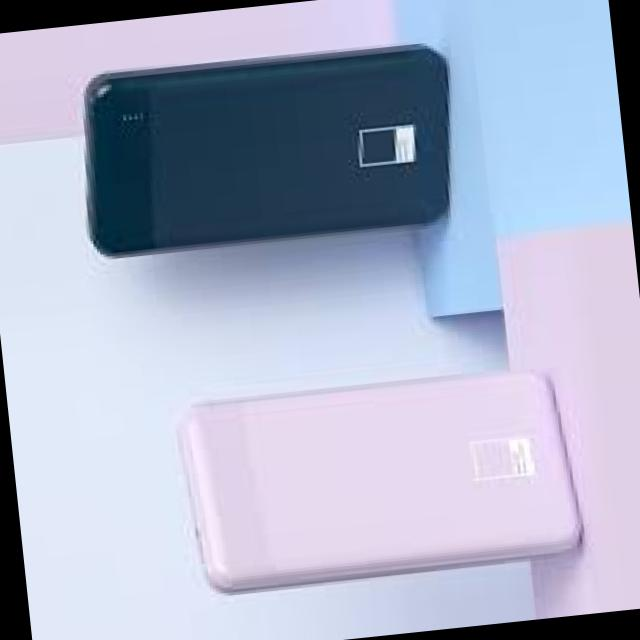portable-charger: (177, 360, 584, 593), (68, 28, 467, 264)
